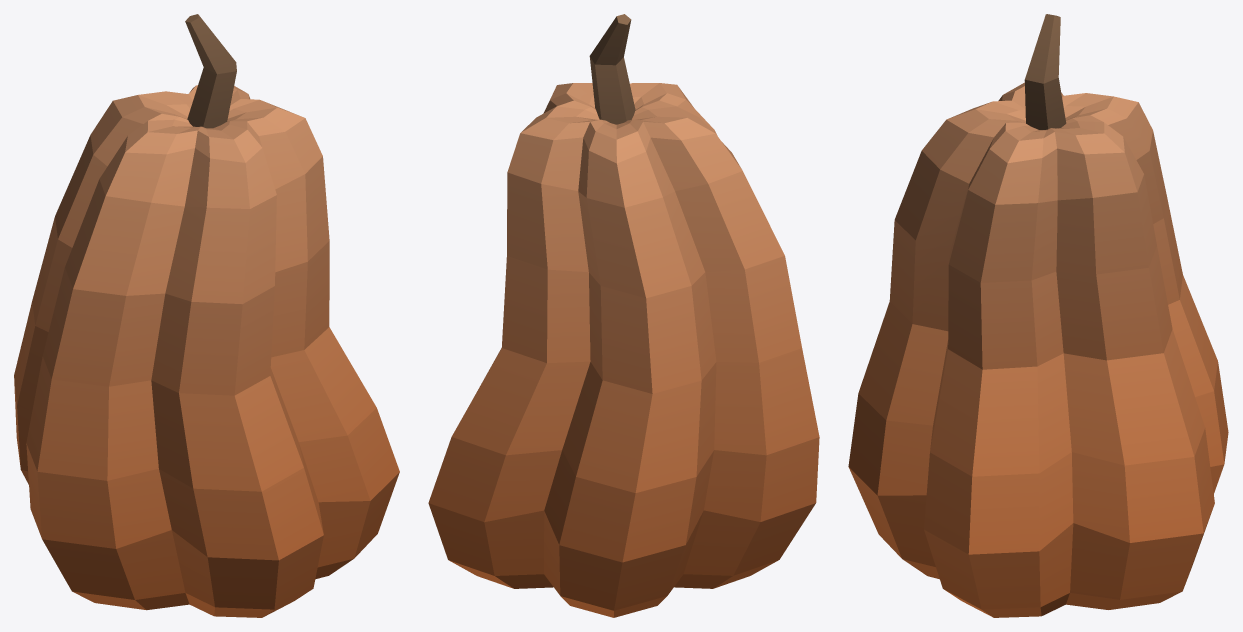
File: pumpkin-2-brown.glb
3 renders of one model, left to right at view 1: azimuth 30°, elevation 25°; view 2: azimuth 150°, elevation 25°; view 3: azimuth 270°, elevation 25°, orthographic.
Visible parts, largest first — view 1: pumpkin 2 brown; view 2: pumpkin 2 brown; view 3: pumpkin 2 brown.
Boxes of the visible parts, left/top/right/bottom form: pumpkin 2 brown: left=14, top=14, right=399, bottom=617; pumpkin 2 brown: left=428, top=14, right=819, bottom=617; pumpkin 2 brown: left=848, top=14, right=1228, bottom=617.
Bounding box in the file's own units: 0.4535 × 0.7077 × 0.4403.
1 material, 1 textured.
